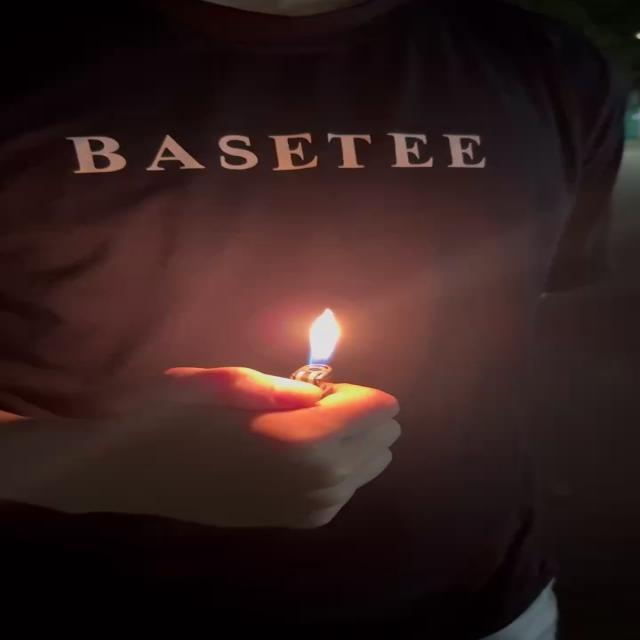Fire: (306, 307, 346, 371)
